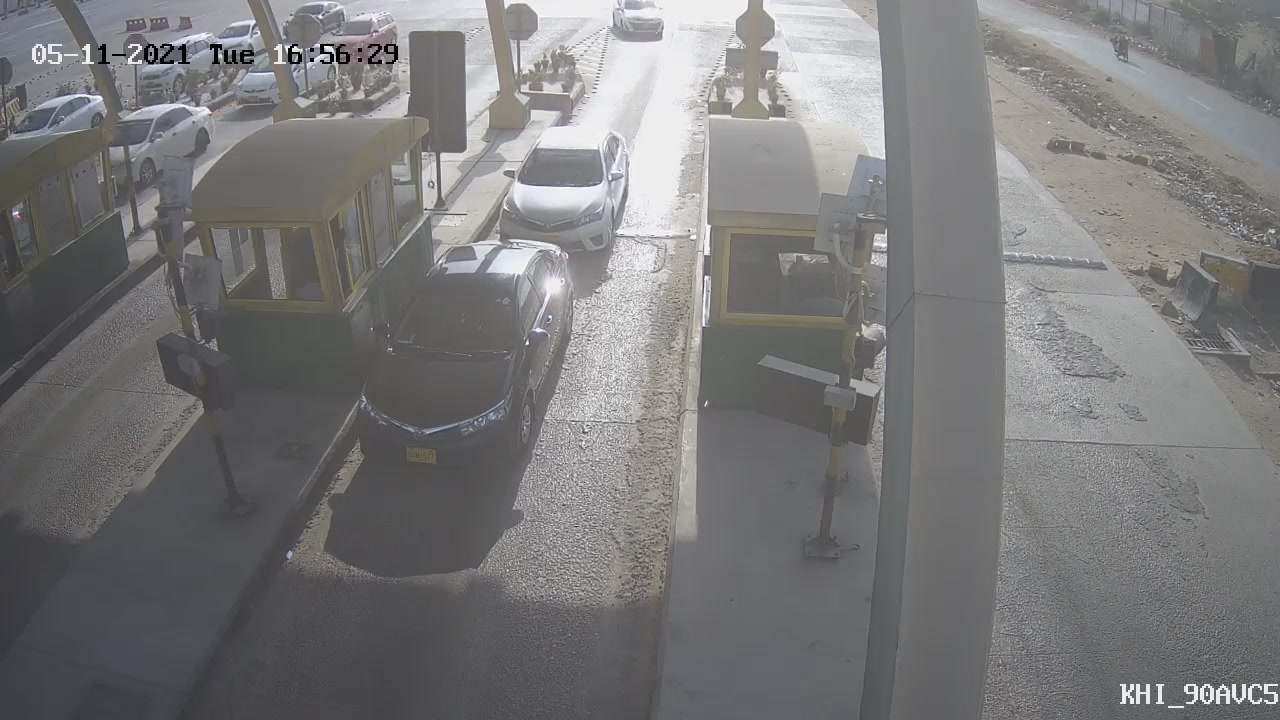F1: (326, 217, 592, 503), (481, 104, 648, 279)
